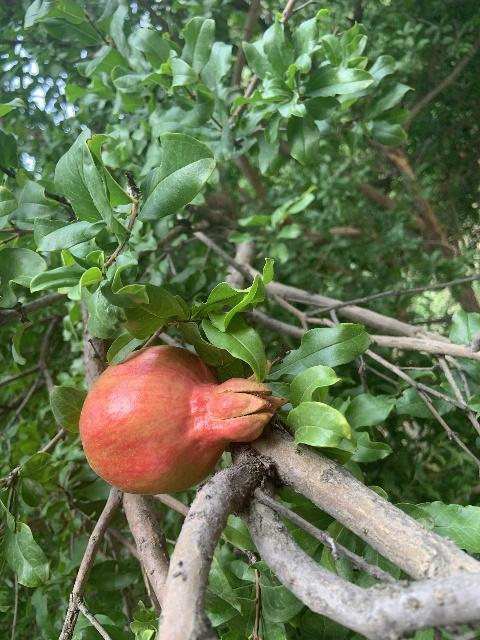ripe: (79, 344, 289, 494)
